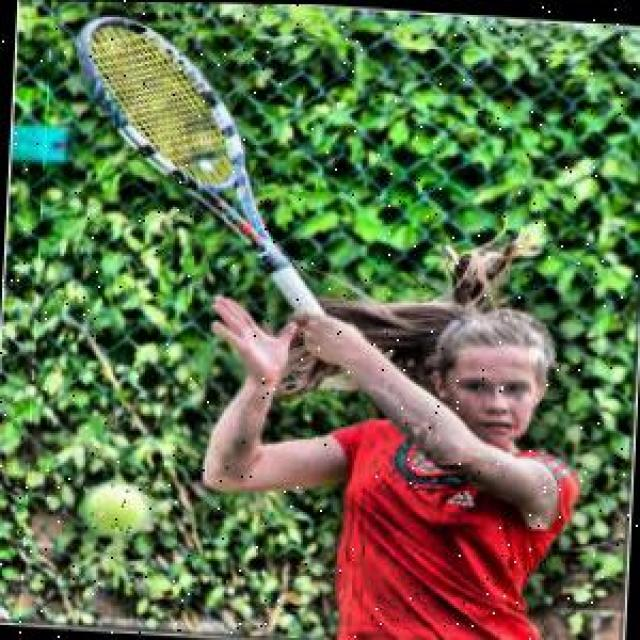tennis-ball: (81, 477, 151, 535)
